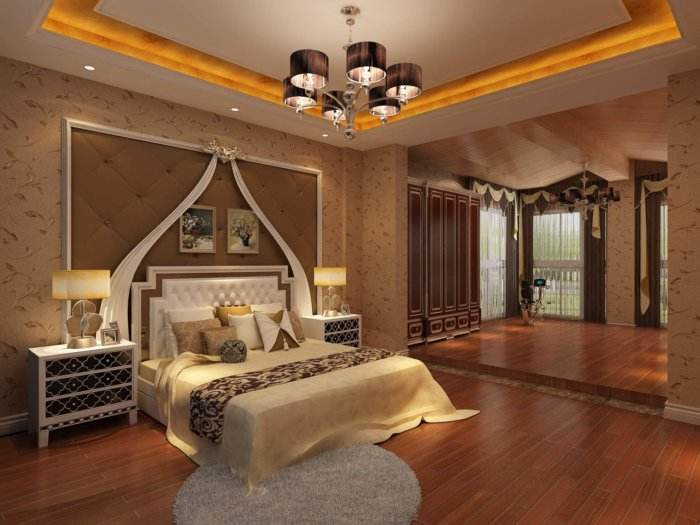床: (143, 339, 458, 479)
枕头: (166, 304, 302, 359)
灯: (282, 8, 426, 135), (46, 267, 107, 347), (312, 264, 352, 317), (226, 103, 246, 115), (79, 62, 99, 74)
